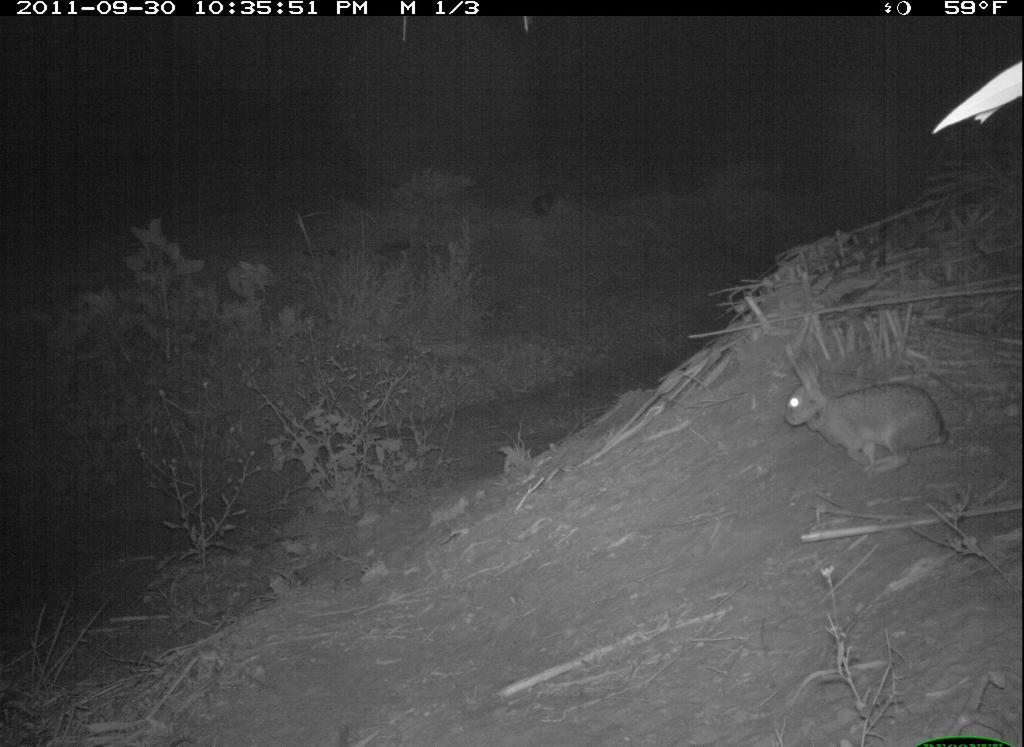rabbit: (780, 340, 958, 479)
